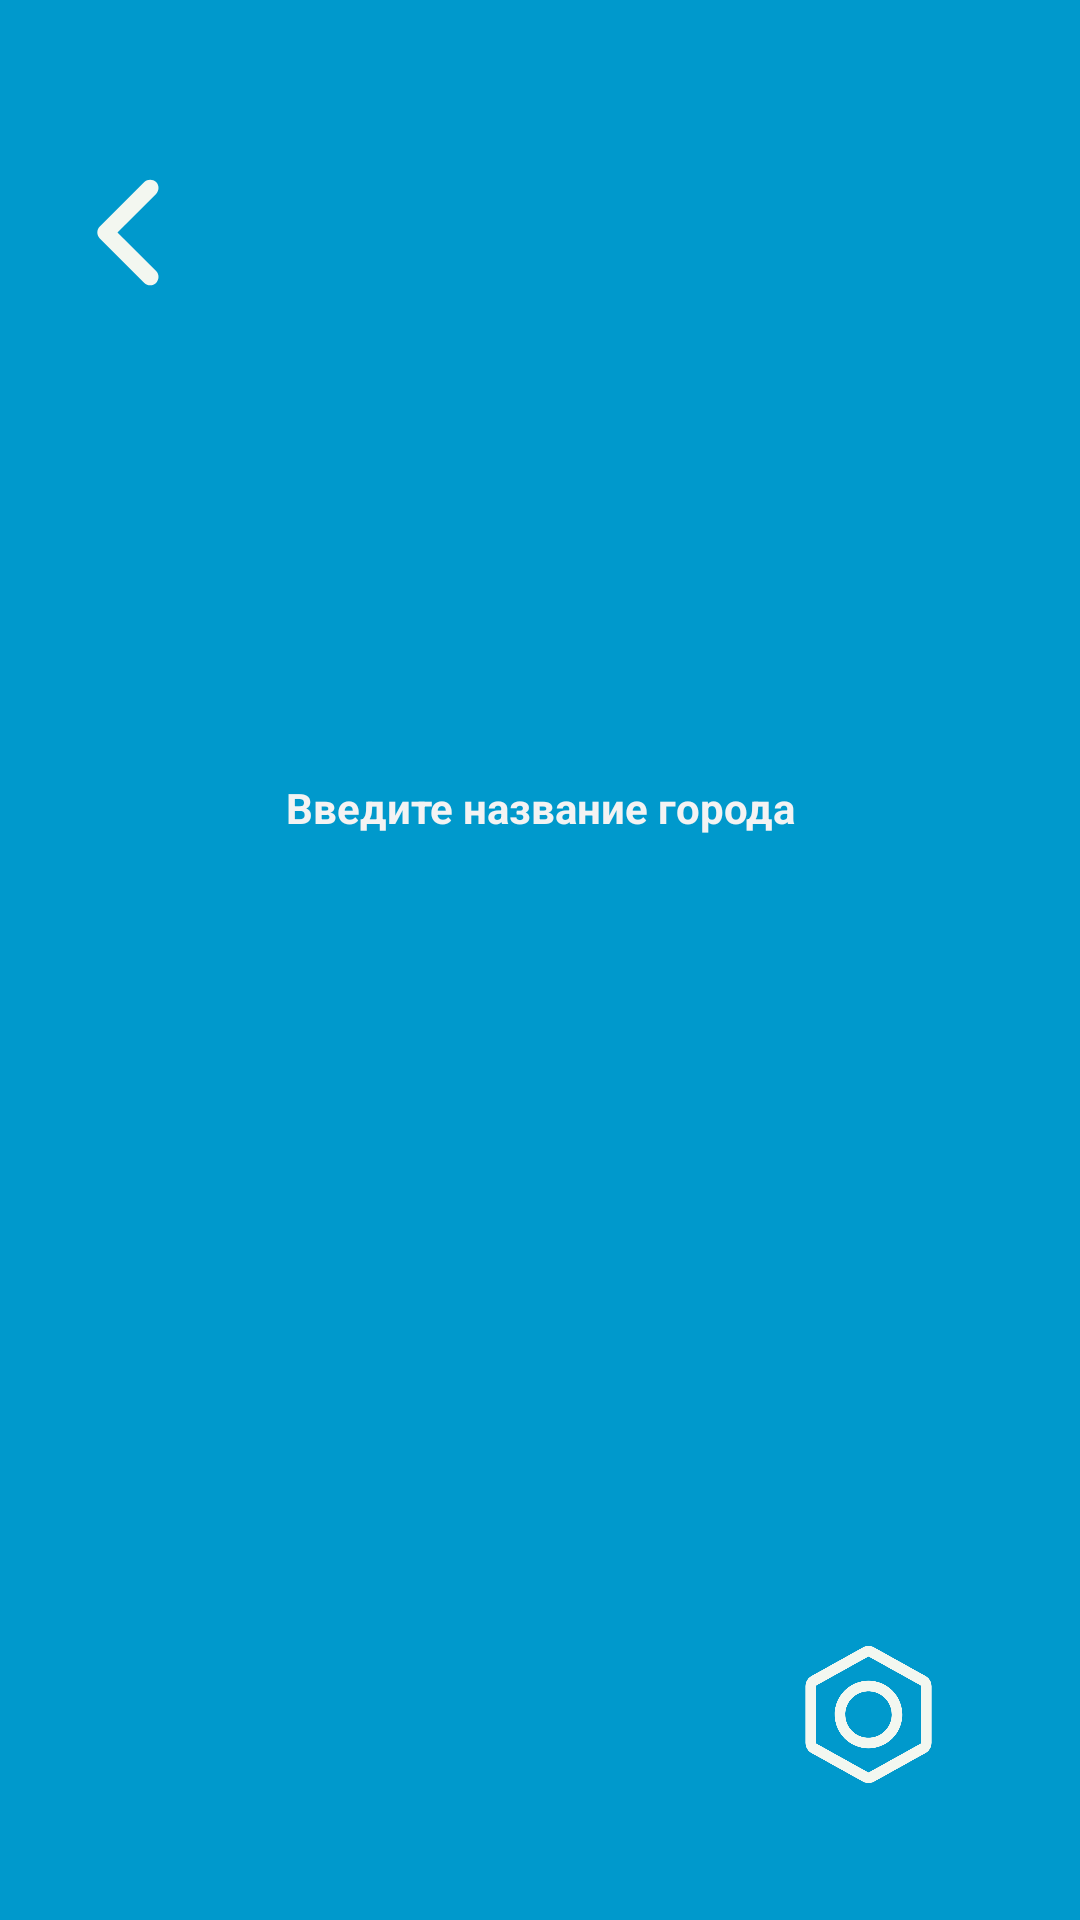

Screen size 1080 × 1920. Icon name, then its center in pixels as [x,y]:
left: [128,232]
settings: [868,1714]
